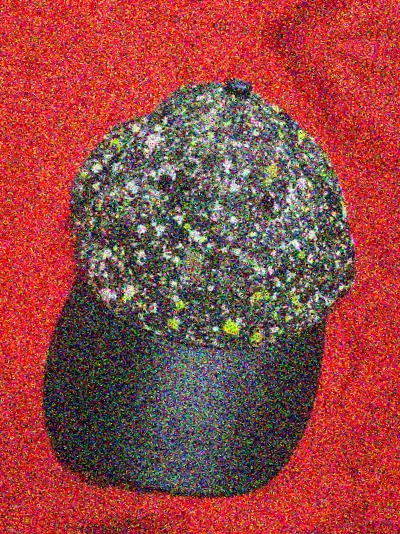Hat: (4, 41, 400, 534), (88, 0, 400, 18)
